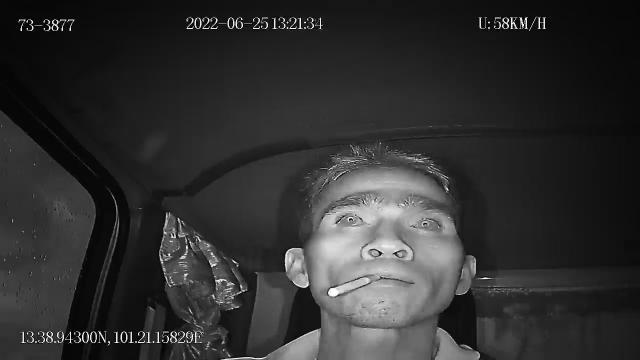SafeDriving: (403, 210, 449, 236), (330, 206, 371, 231)
Smoking: (327, 275, 381, 297)
